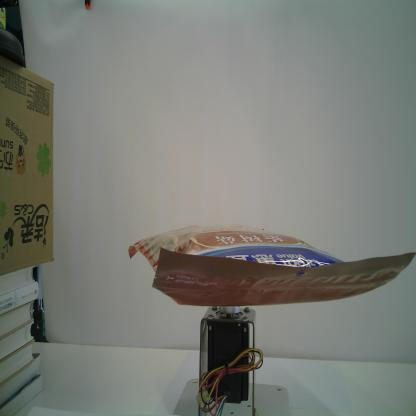Dried Food: (127, 224, 416, 308)
